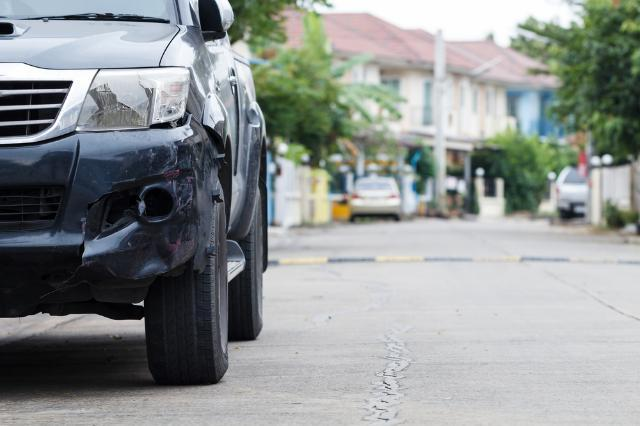crack: (45, 192, 112, 287)
dent: (118, 226, 172, 277)
lamp broken: (74, 67, 191, 133)
scratch: (147, 139, 198, 222)
